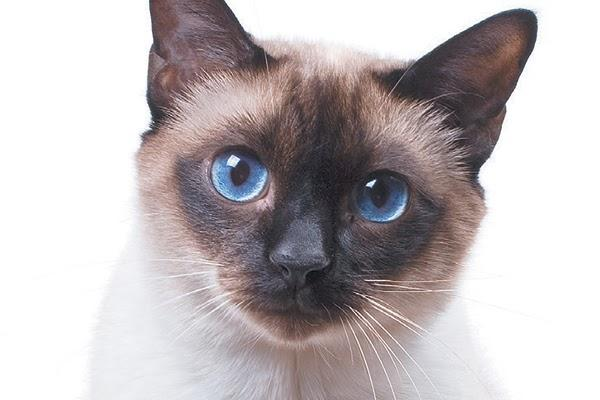siamese: (130, 1, 543, 394)
